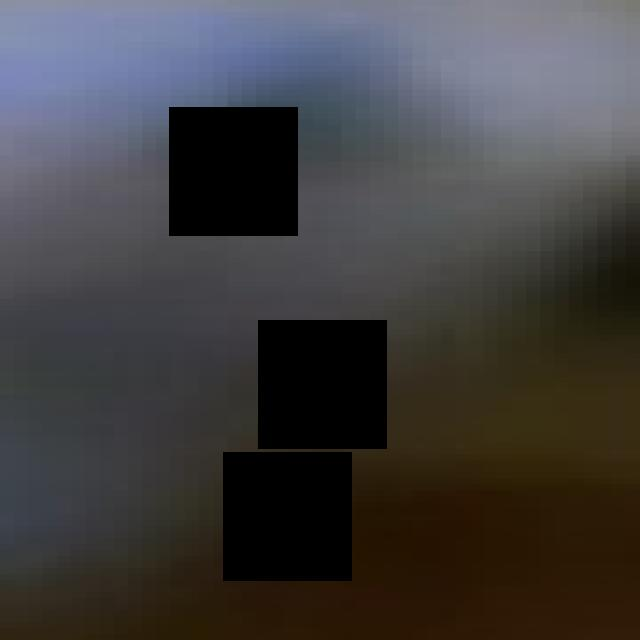fish: (14, 6, 640, 640)
